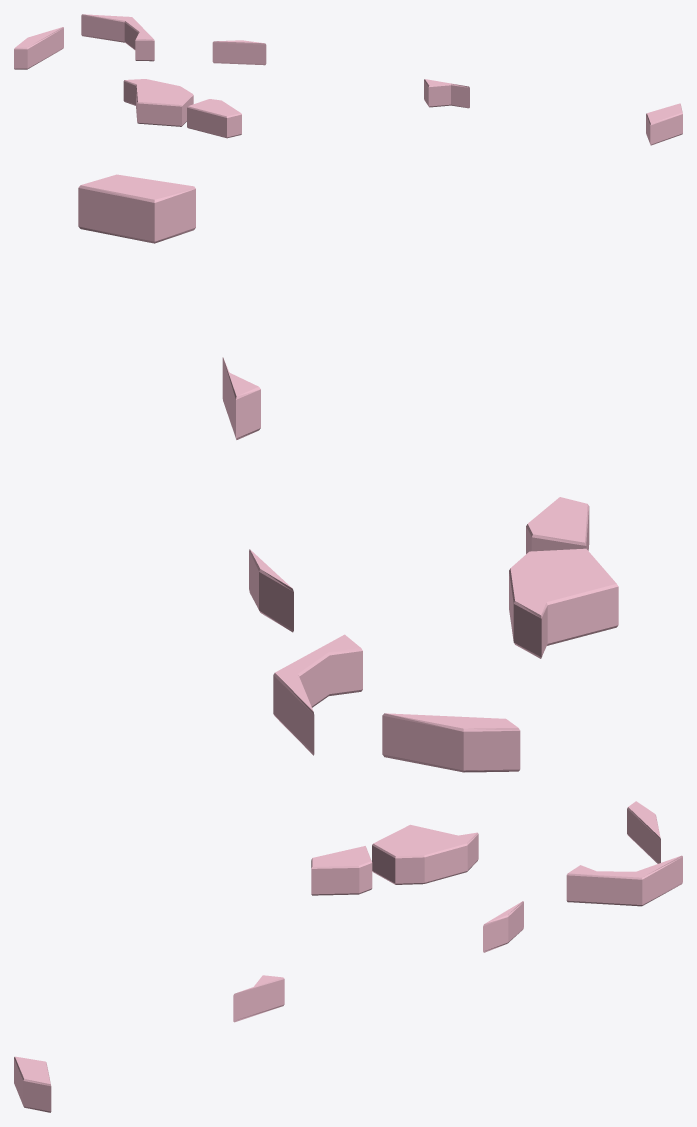
The model's file is BHS.glb.
The picture shows the model from 3 angles, top to bottom: view 1: azimuth 30°, elevation 25°; view 2: azimuth 150°, elevation 25°; view 3: azimuth 270°, elevation 25°; orthographic projection. The views are drawn at different scales.
Size of the model in its own units: 1.44 by 0.068 by 1.43.
